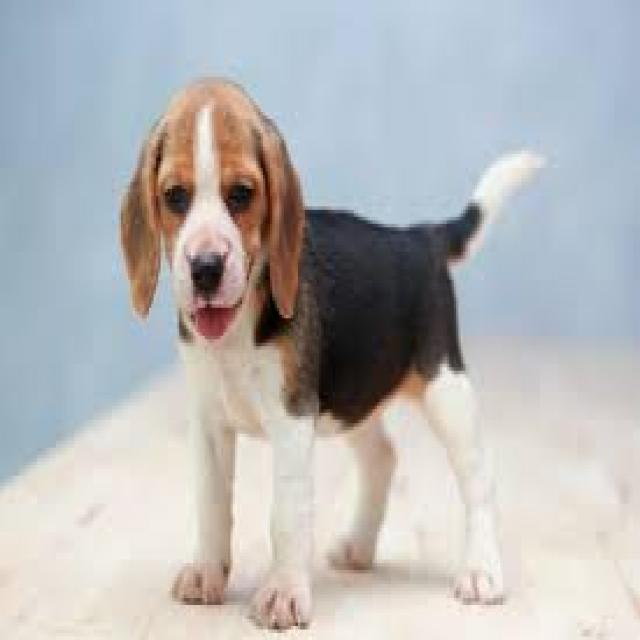Dog: (114, 70, 546, 633)
